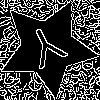Y: (22, 22, 73, 78)
